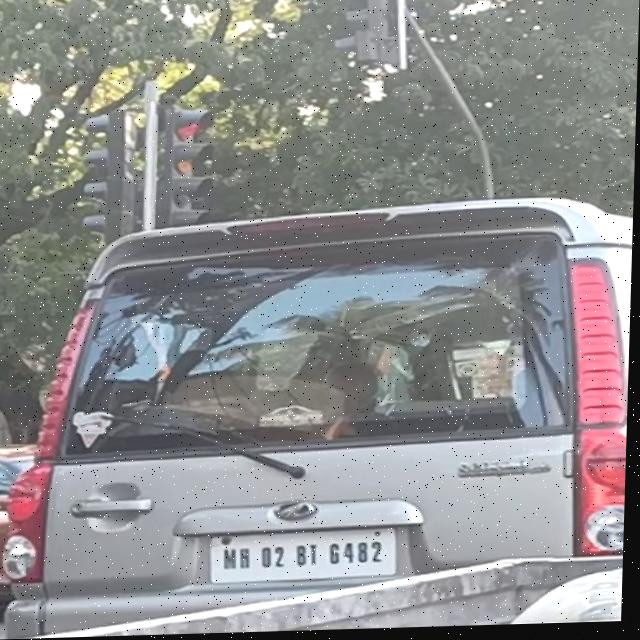plate: (208, 528, 402, 586)
